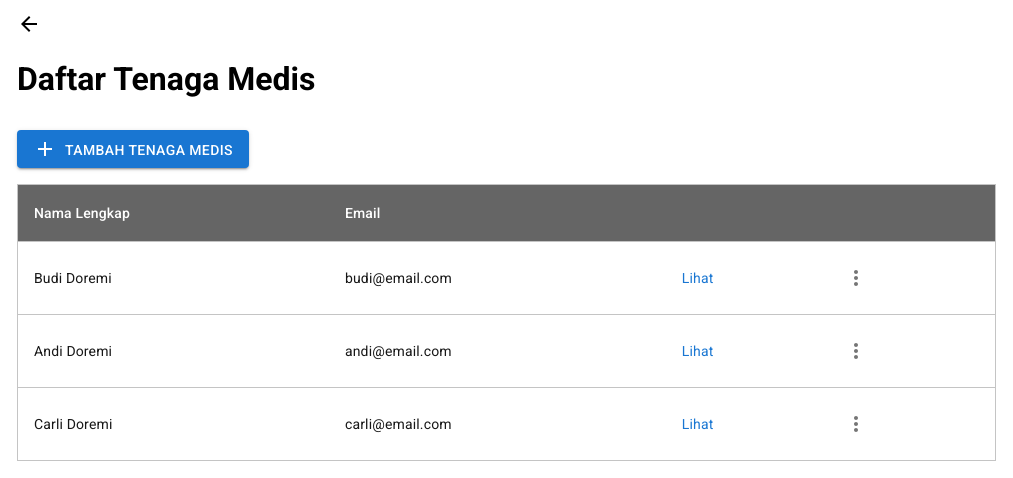
Test case: DashboardTenagaMedis › TenagaMedisTable › should show dropdown when kebab menu icon is pressed
Click the button with test id "modify-dropdown-menu" in the row of "Budi Doremi" at (856,278), box left=836, top=258, right=876, bottom=298
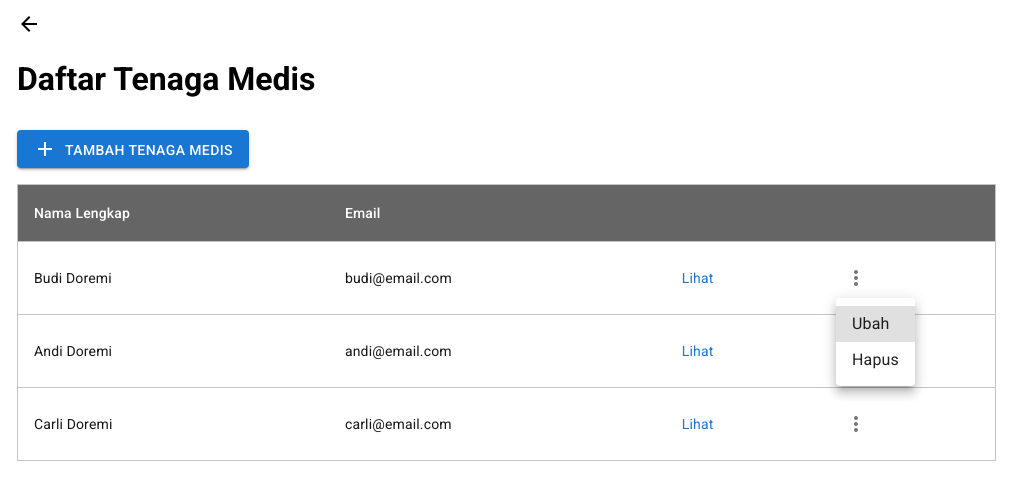
Now the menu item "Ubah" is shown, box left=836, top=306, right=915, bottom=342
Now the menu item "Hapus" is shown, box left=852, top=350, right=899, bottom=369
